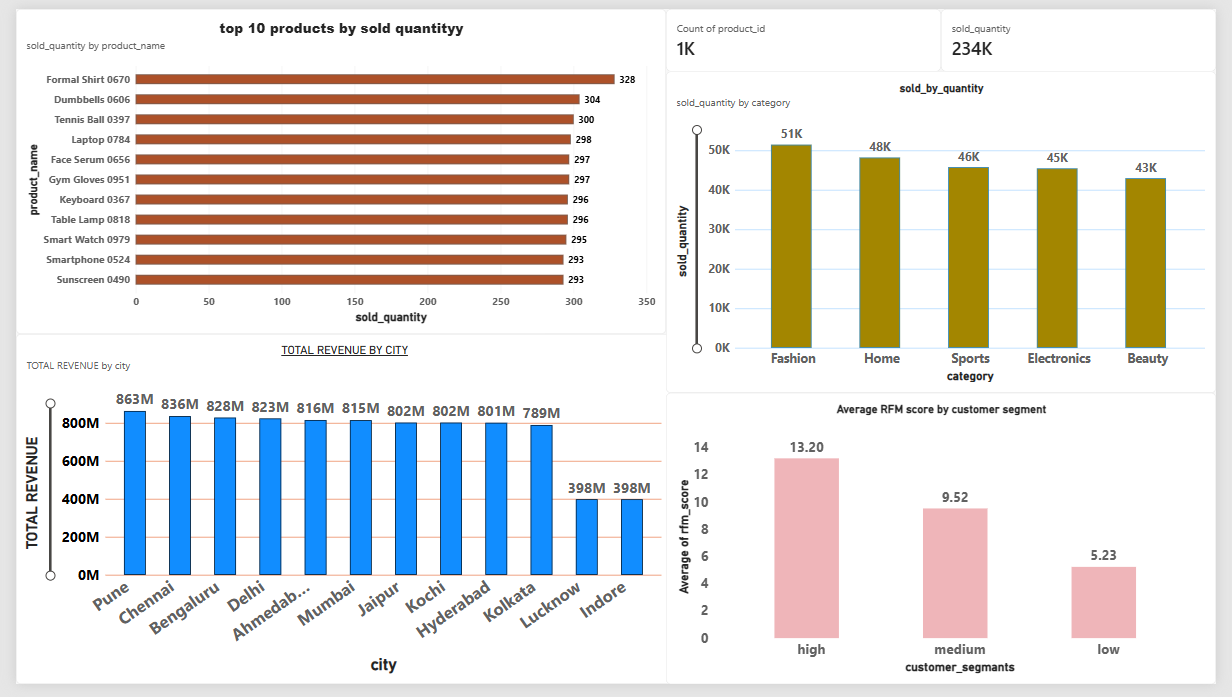

What the dashboard file says about the page in this screenshot:
{"tool":"powerbi","page":{"name":"Customer & Product Insights","canvas":[1920,1080],"ordinal":2},"visuals":[{"type":"clusteredBarChart","title":"top 10 products by sold quantityy","fields":{"Category":["public products.product_name"],"Y":["public customers.sold_quantity"]},"box":[0,0,1040,520],"z":0},{"type":"clusteredColumnChart","title":"TOTAL REVENUE BY CITY","fields":{"Category":["public customers.city"],"Y":["public customers.TOTAL REVENUE"]},"box":[0,520,1050,560],"z":1},{"type":"clusteredColumnChart","title":"sold_by_quantity","fields":{"Category":["public products.category"],"Y":["public customers.sold_quantity"]},"box":[1040,100,880,514],"z":2},{"type":"clusteredColumnChart","title":"Average RFM score by customer segment","fields":{"Category":["public customer_rfm.customer_segmants"],"Y":["Avg(public customer_rfm.rfm_score)"]},"box":[1040,614,880,466],"z":3},{"type":"cardVisual","fields":{"Data":["Count(public products.product_id)"]},"box":[1040,0,440,100],"z":4},{"type":"cardVisual","fields":{"Data":["public customers.sold_quantity"]},"box":[1480,0,440,100],"z":5}]}

Visuals, with their boxes in screenshot pixels (x1, y1, x2, y2), scaled from the page's 1920x1080 canvas onto the 1232x697 screenshot:
"top 10 products by sold quantityy" clusteredBarChart: 0,0,667,336
"TOTAL REVENUE BY CITY" clusteredColumnChart: 0,336,674,696
"sold_by_quantity" clusteredColumnChart: 667,65,1231,396
"Average RFM score by customer segment" clusteredColumnChart: 667,396,1231,696
cardVisual - Count(public products.product_id): 667,0,950,65
cardVisual - public customers.sold_quantity: 950,0,1231,65
